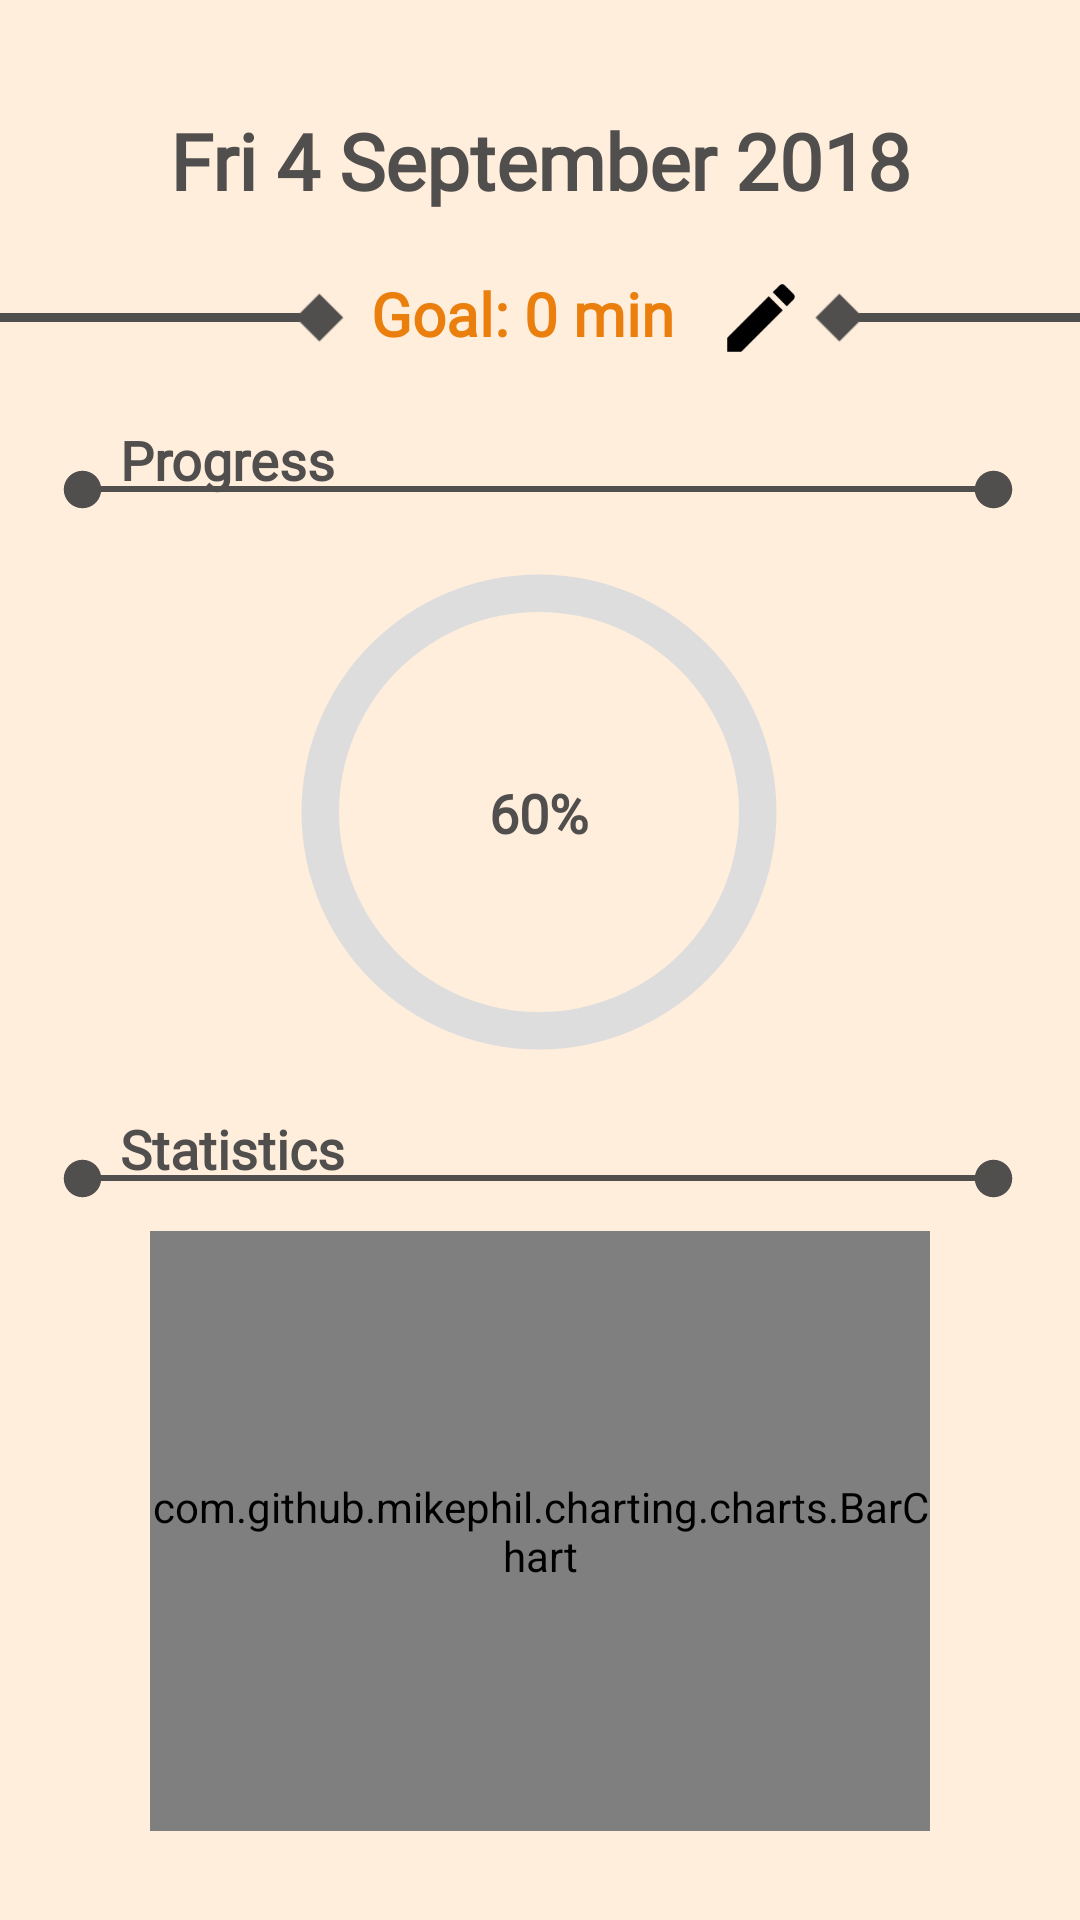

Icons on this 1080×1920 Android screen, each with its box as (x1, y1, x2, y2):
edit: (727, 284, 795, 352)
